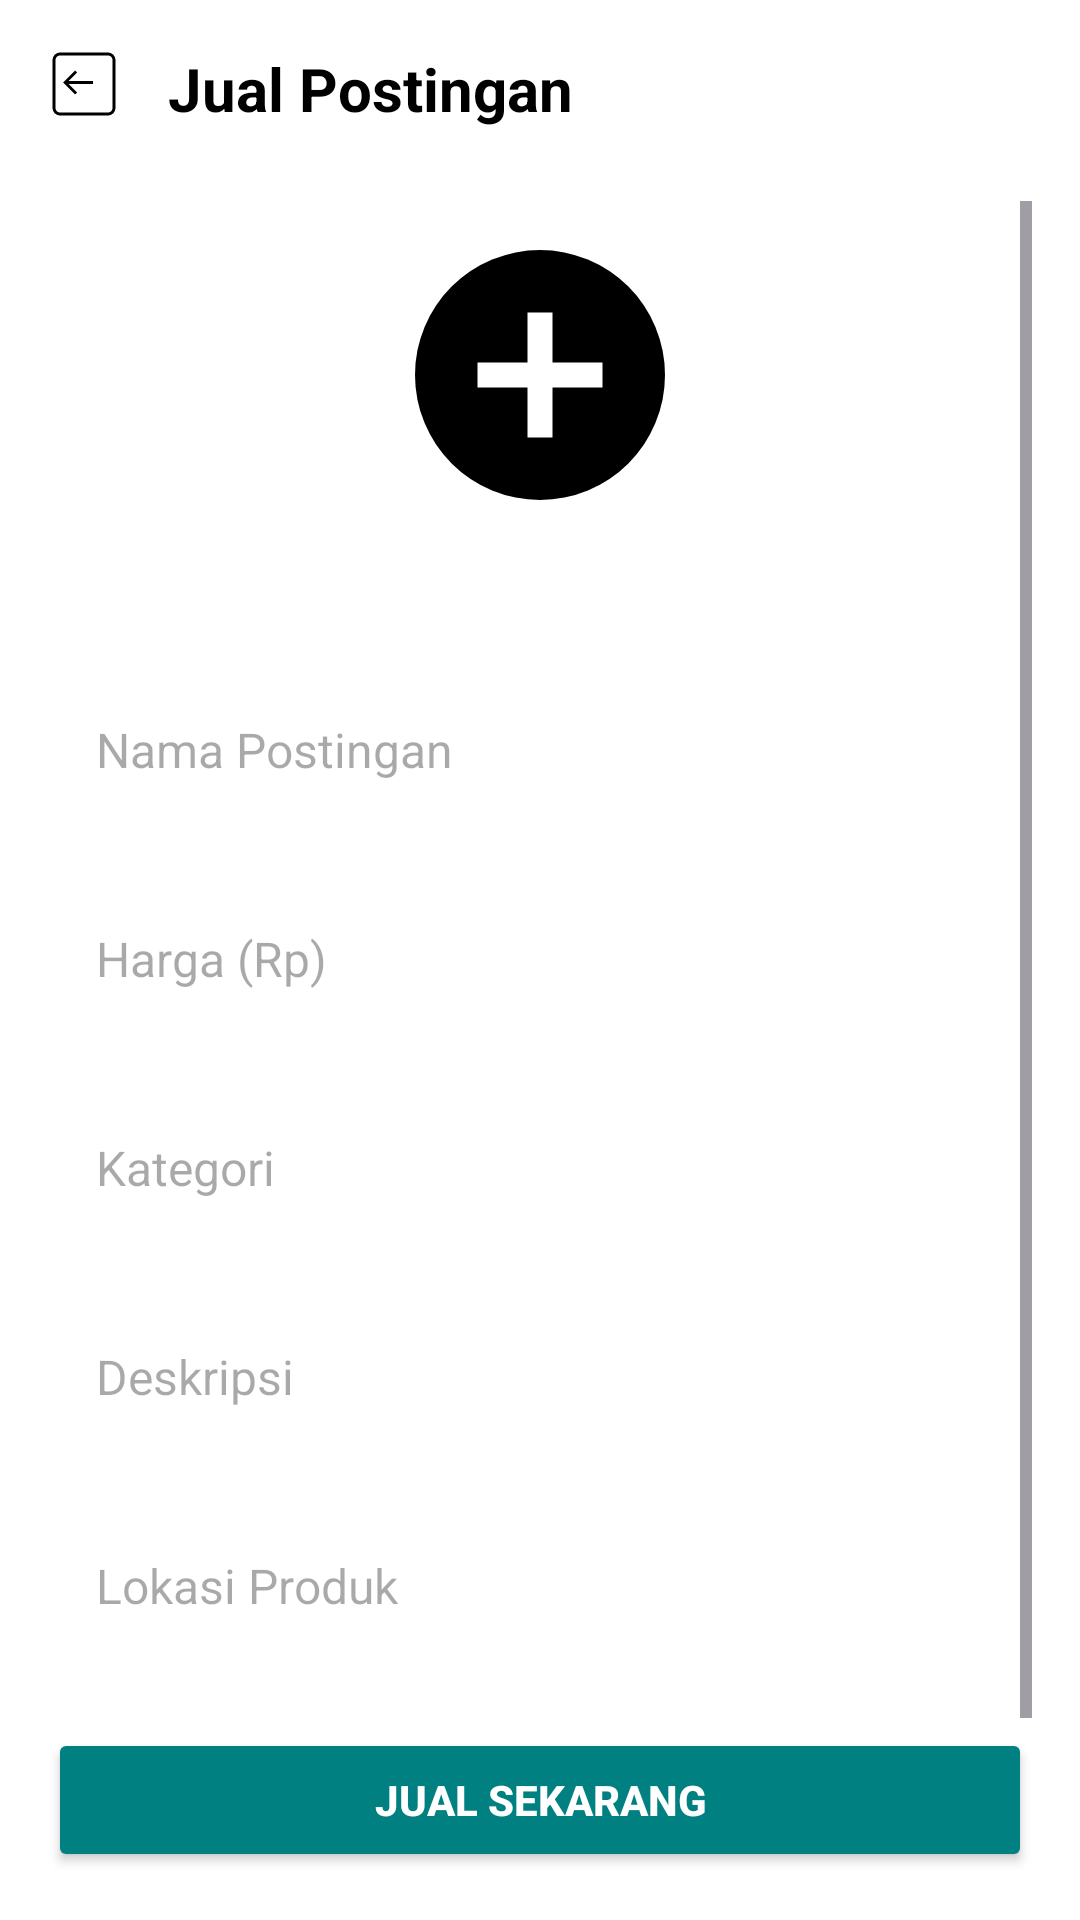

Where icons sit on this 1080 x 1920 app screen, as (x1, y1, x2, y2):
Kembali: (52, 52, 116, 116)
Tambah Gambar: (415, 250, 665, 500)
